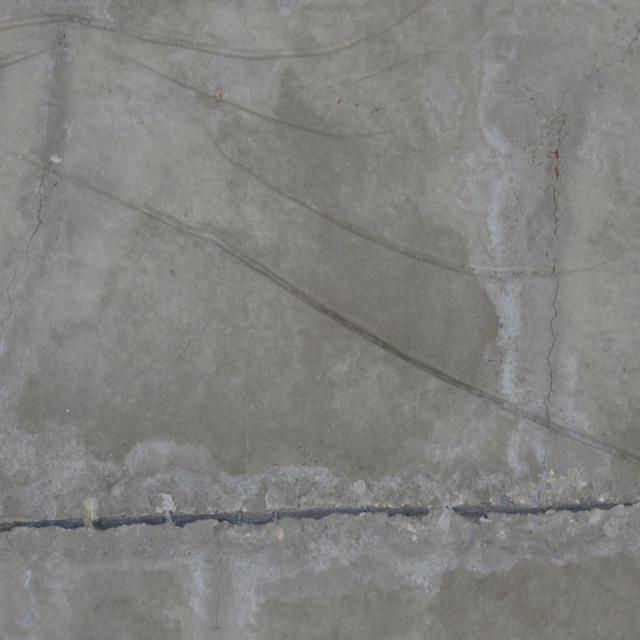corrosion: (77, 460, 91, 492)
